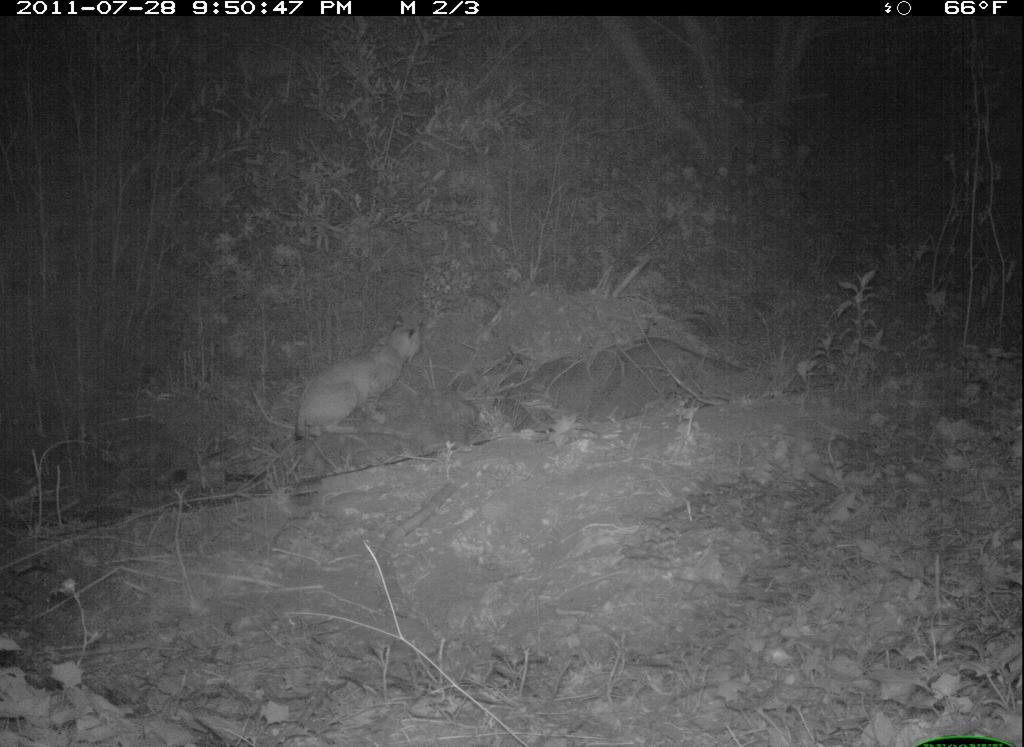bobcat: (286, 310, 440, 449)
